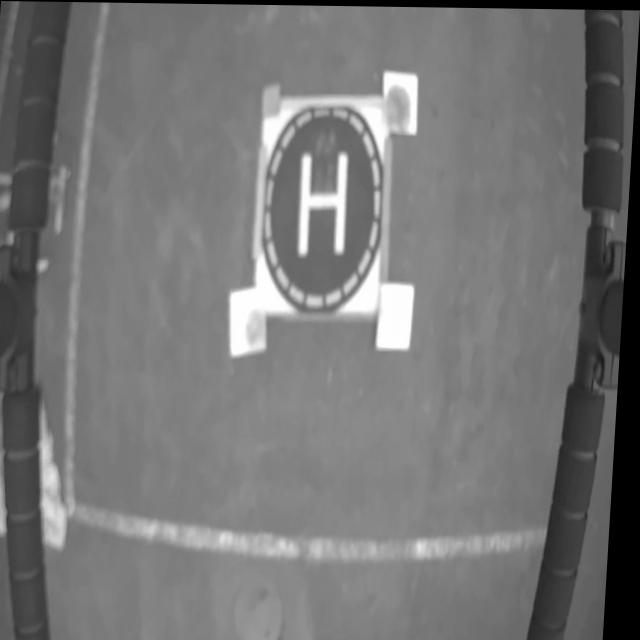Helipad: (301, 151, 350, 255)
